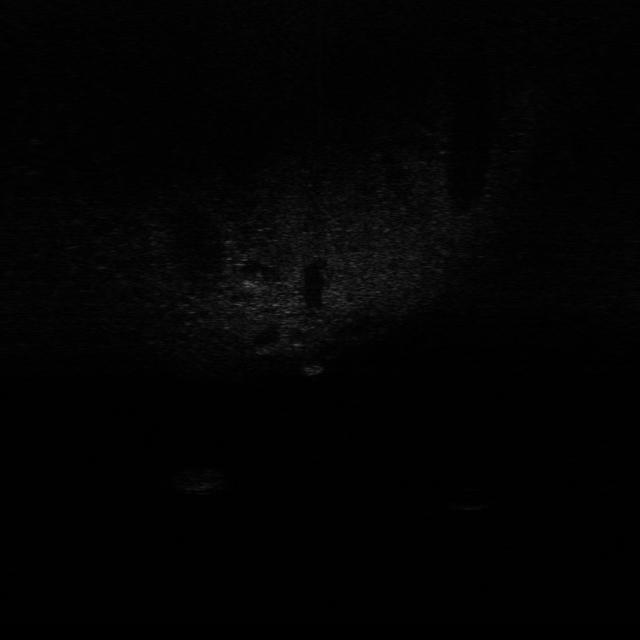ball: (451, 482, 497, 512)
circle cage: (170, 460, 236, 501)
cube: (297, 354, 329, 383)
